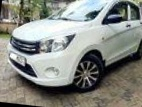car: (3, 0, 142, 101)
